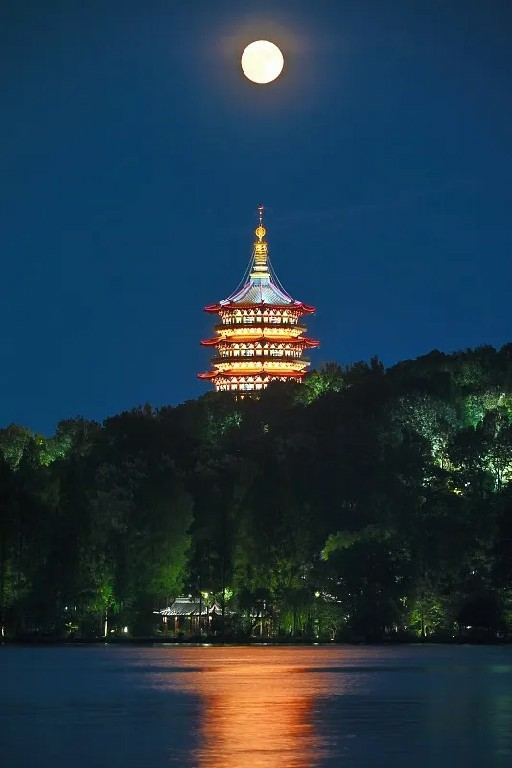Leifeng: (195, 201, 322, 393)
